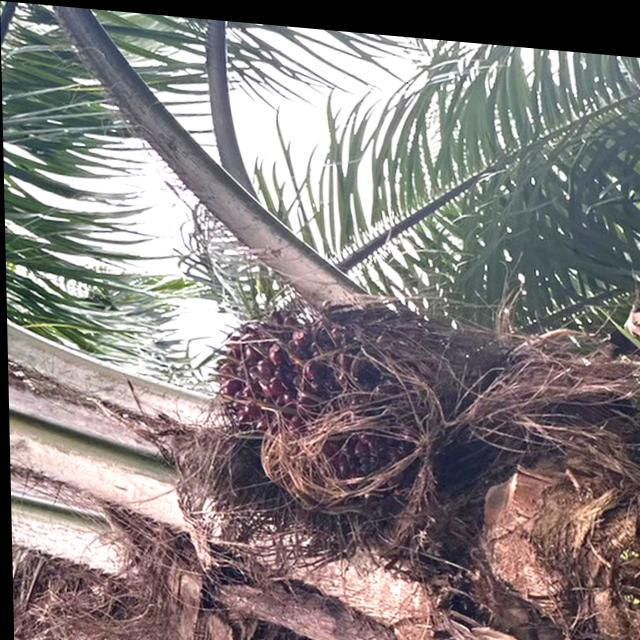ripe: (210, 299, 410, 501)
